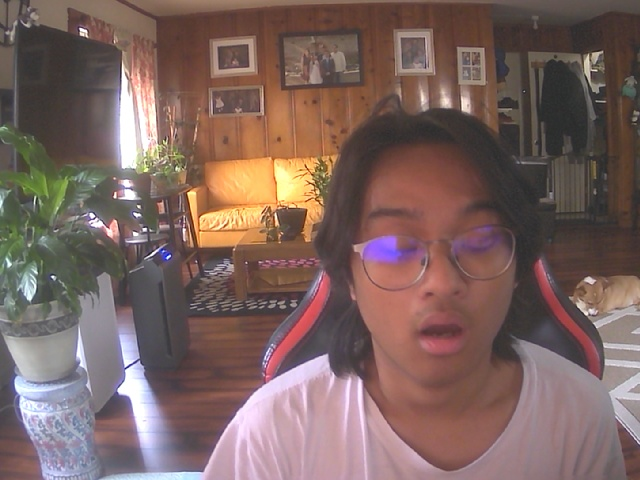fear: (340, 120, 528, 391)
